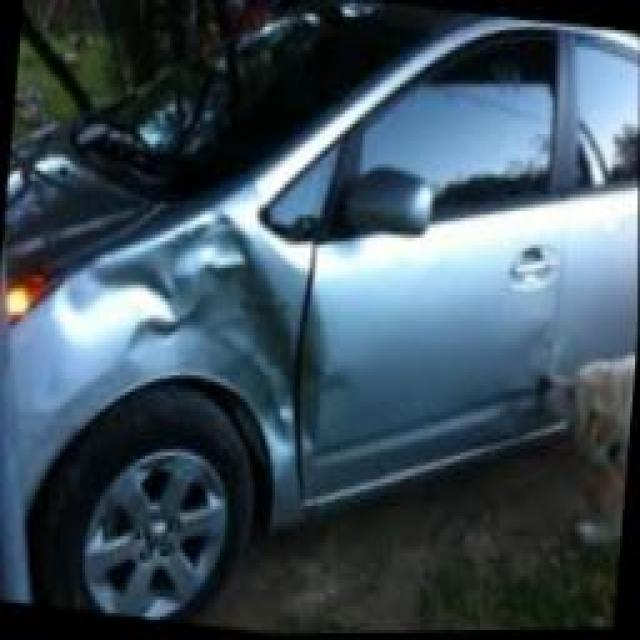Door: (476, 316, 573, 435)
Fender: (23, 191, 315, 518)
